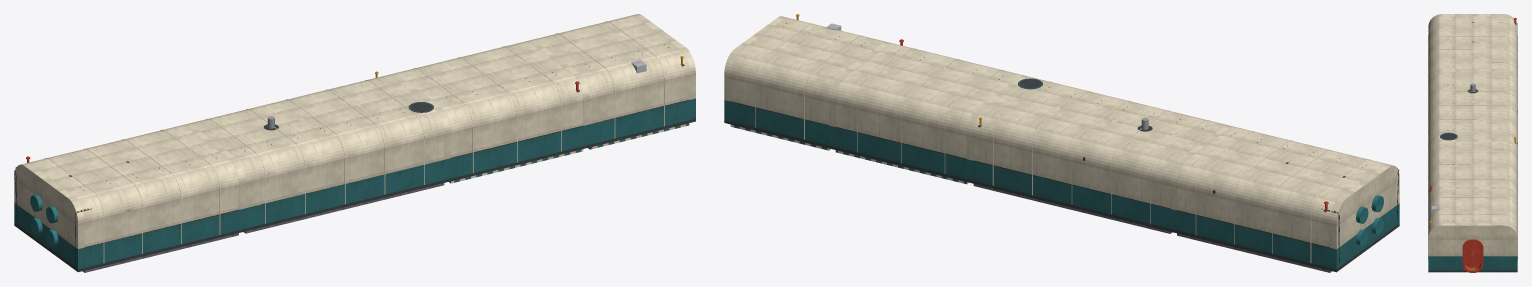
The model's file is Submarine_Interior.glb.
3 renders of one model, left to right at view 1: azimuth 30°, elevation 25°; view 2: azimuth 150°, elevation 25°; view 3: azimuth 270°, elevation 25°, orthographic. The views are drawn at different scales.
Parts seen in each view (by area): view 1: ControlRoom_Shell_Body, TorpedoRoom_Shell_Body, CrewMess_Shell_Body, Galley_Shell_Body, Bulkhead_Bow_Body, ControlRoom_Shell_Structure, Bulkhead_1_Body, Bulkhead_3_Body, Bulkhead_Aft_Body, Bulkhead_2_Body, TorpedoRoom_Shell_Structure, TorpedoTubes_Body.001 (+3 smaller); view 2: ControlRoom_Shell_Body, TorpedoRoom_Shell_Body, CrewMess_Shell_Body, Galley_Shell_Body, Bulkhead_Bow_Body, ControlRoom_Shell_Structure, Bulkhead_1_Body, Bulkhead_Aft_Body, Bulkhead_3_Body, Bulkhead_2_Body, TorpedoRoom_Shell_Structure, TorpedoTubes_Body.001 (+3 smaller); view 3: ControlRoom_Shell_Body, TorpedoRoom_Shell_Body, CrewMess_Shell_Body, Bulkhead_Aft_Body, Galley_Shell_Body, ControlRoom_Shell_Structure, TorpedoRoom_Shell_Structure, EngineRoomDoor_Leaf.001, CrewMess_Shell_Structure, EngineRoomDoor_Body.001, Galley_Shell_Structure, Bulkhead_1_Body (+5 smaller).
Boxes of the visible parts, x1,y1,x2,y2 form: ControlRoom_Shell_Body: (188, 75, 444, 231); TorpedoRoom_Shell_Body: (28, 125, 238, 270); CrewMess_Shell_Body: (394, 41, 583, 181); Galley_Shell_Body: (532, 15, 689, 147); Bulkhead_Bow_Body: (14, 163, 84, 272); ControlRoom_Shell_Structure: (206, 80, 424, 223); Bulkhead_1_Body: (182, 124, 245, 232); Bulkhead_3_Body: (527, 40, 589, 148); Bulkhead_Aft_Body: (632, 14, 695, 122); Bulkhead_2_Body: (387, 73, 450, 182); TorpedoRoom_Shell_Structure: (44, 129, 220, 262); TorpedoTubes_Body.001: (30, 194, 58, 246); ControlRoom_Shell_Body: (973, 77, 1227, 231); TorpedoRoom_Shell_Body: (1177, 126, 1385, 270); CrewMess_Shell_Body: (835, 43, 1023, 181); Galley_Shell_Body: (730, 18, 885, 148); Bulkhead_Bow_Body: (1330, 164, 1399, 272); ControlRoom_Shell_Structure: (992, 81, 1209, 224); Bulkhead_1_Body: (1170, 125, 1232, 233); Bulkhead_Aft_Body: (724, 16, 787, 124); Bulkhead_3_Body: (829, 42, 892, 149); Bulkhead_2_Body: (967, 75, 1029, 183); TorpedoRoom_Shell_Structure: (1195, 131, 1369, 263); TorpedoTubes_Body.001: (1356, 195, 1383, 246); ControlRoom_Shell_Body: (1428, 71, 1517, 149); TorpedoRoom_Shell_Body: (1428, 16, 1517, 79); CrewMess_Shell_Body: (1428, 141, 1517, 197); Bulkhead_Aft_Body: (1428, 223, 1517, 272); Galley_Shell_Body: (1428, 189, 1517, 233); ControlRoom_Shell_Structure: (1428, 75, 1517, 161); TorpedoRoom_Shell_Structure: (1428, 20, 1517, 90); EngineRoomDoor_Leaf.001: (1465, 241, 1480, 267); CrewMess_Shell_Structure: (1428, 146, 1517, 209); EngineRoomDoor_Body.001: (1462, 239, 1483, 272); Galley_Shell_Structure: (1428, 193, 1517, 259); Bulkhead_1_Body: (1428, 69, 1517, 81).
Size of the model in its own units: 28.26 by 3.4 by 5.02.
93 materials, 65 textured.
